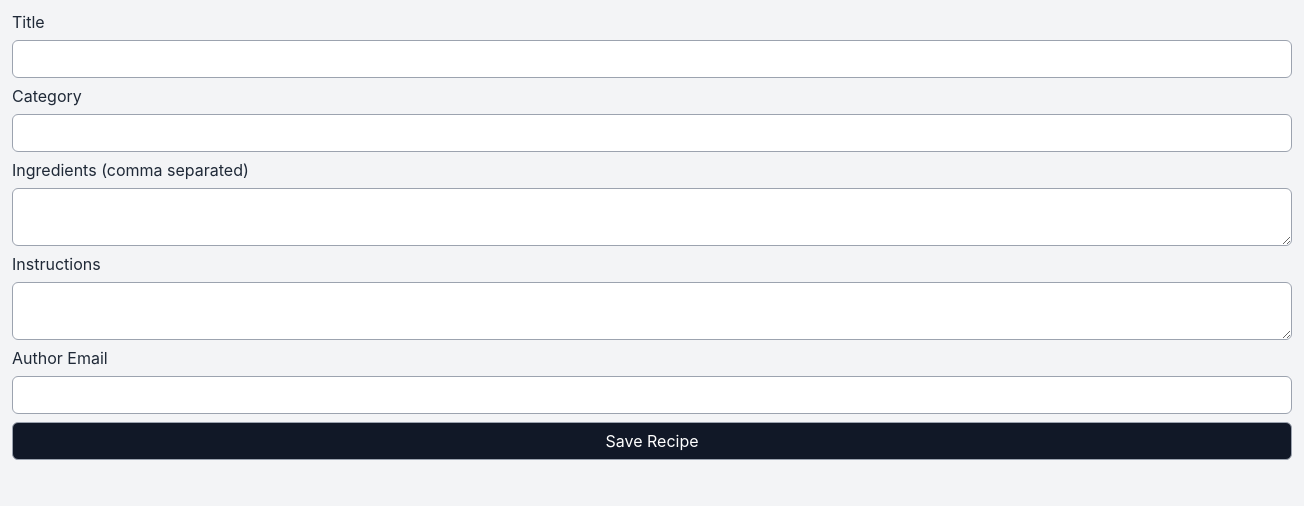
Test: RecipeForm › shows email format validation for invalid email value
The image size is (1304, 506).
In the field labelled "Title": coordinates (652, 59) [12, 40, 1292, 78], type "Tomato Soup"
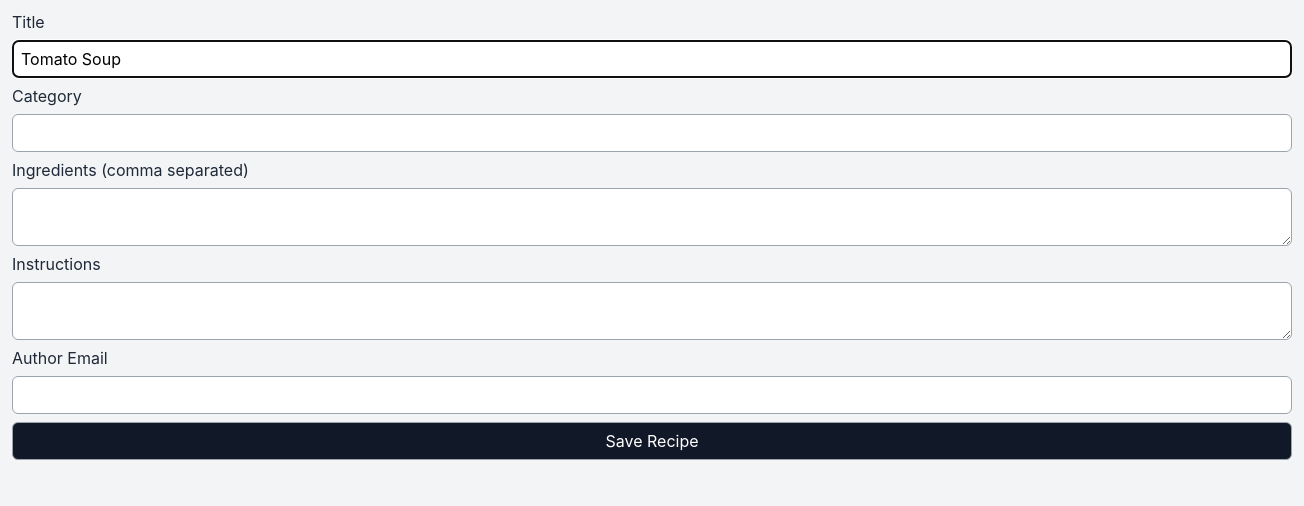
In the field labelled "Category": coordinates (652, 133) [12, 114, 1292, 152], type "Dinner"
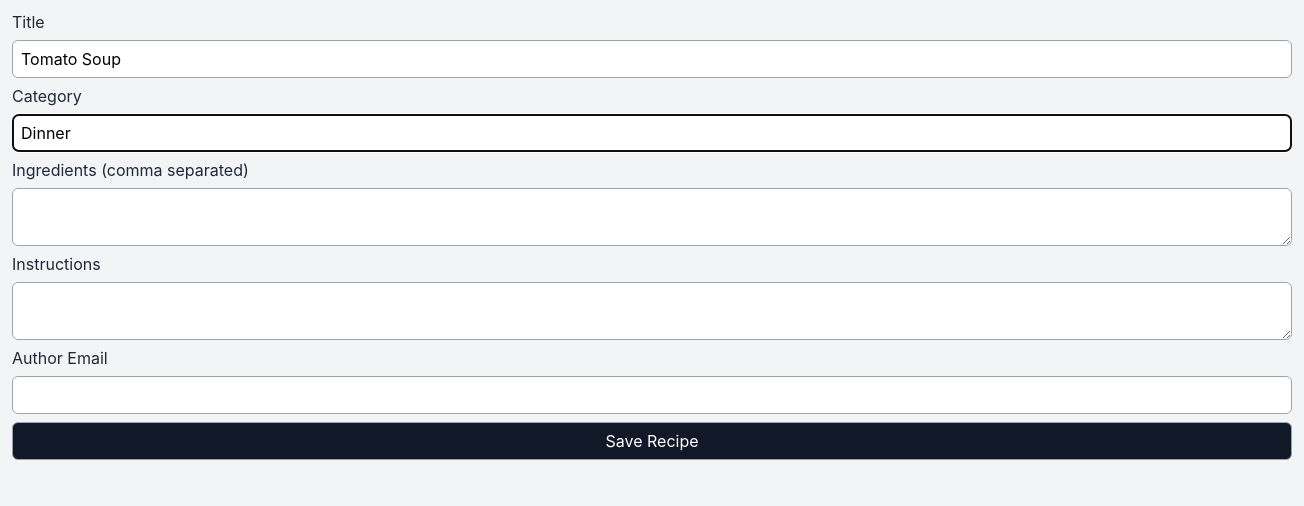
In the text box labelled "Ingredients (comma separated)": coordinates (652, 217) [12, 188, 1292, 246], type "Tomato, Garlic"
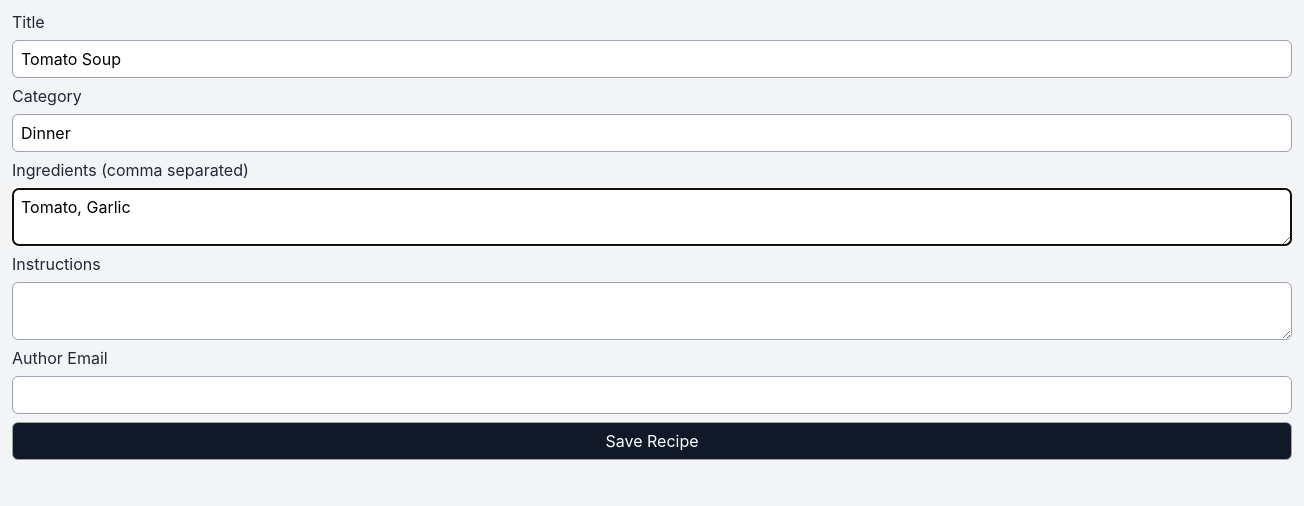
In the text box labelled "Instructions": coordinates (652, 311) [12, 282, 1292, 340], type "Blend and simmer"
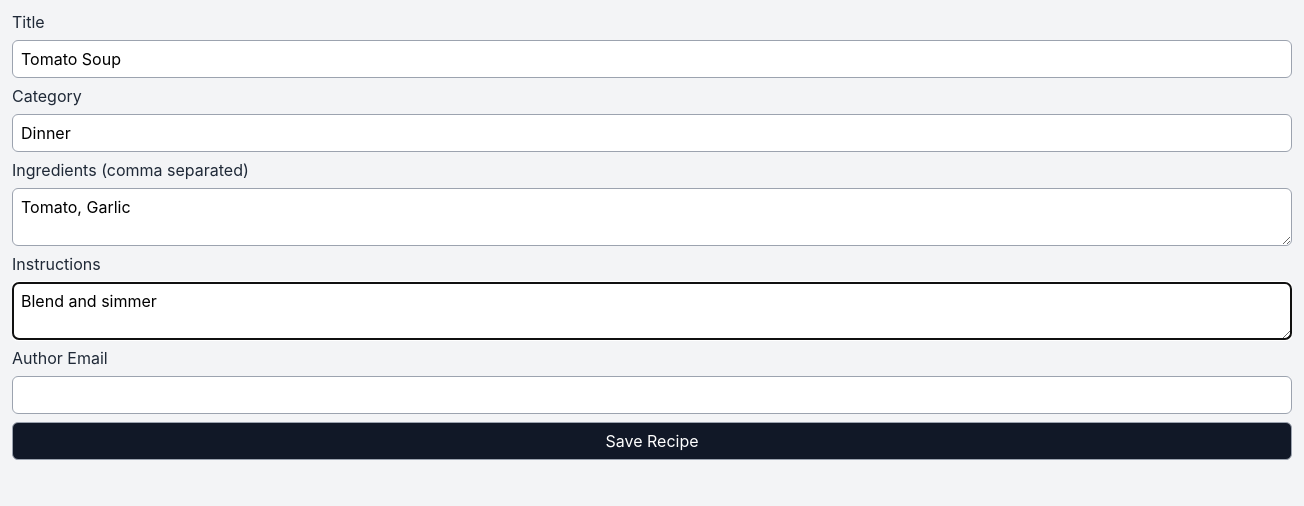
In the field labelled "Author Email": coordinates (652, 395) [12, 376, 1292, 414], type "invalid-email"
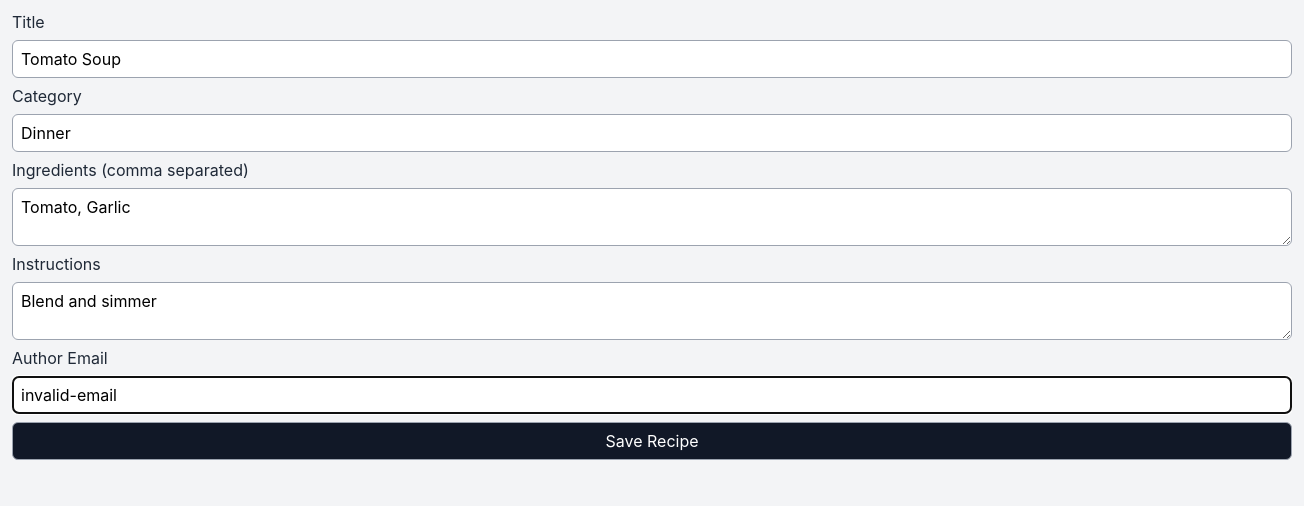
Click the button "Save Recipe": coordinates (652, 441) [12, 422, 1292, 460]
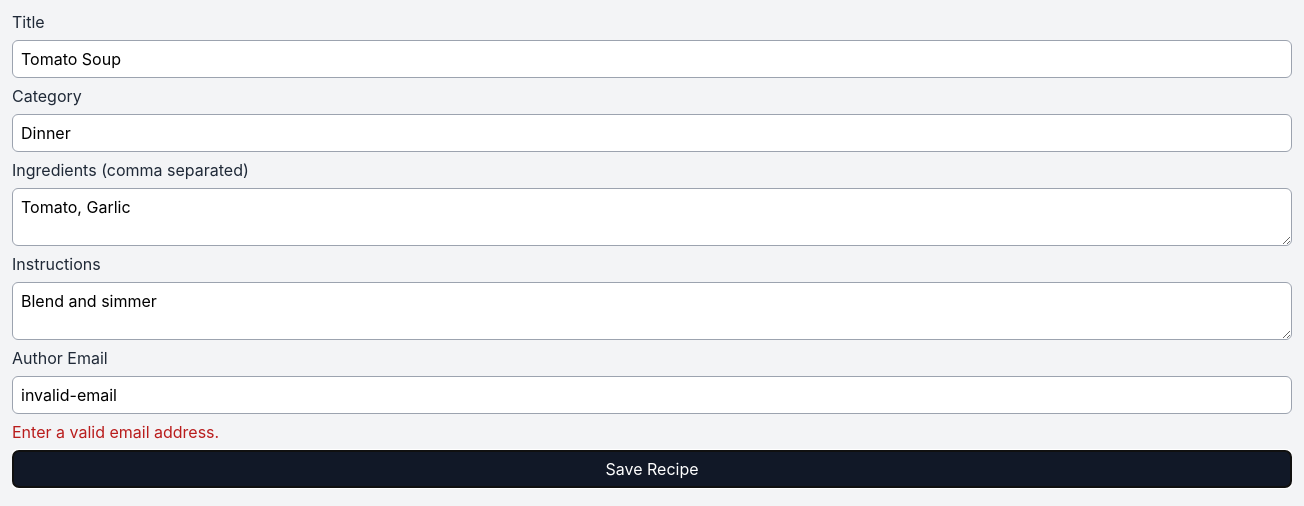
expect the text "Enter a valid email address." is shown: met, box [12, 422, 219, 442]
